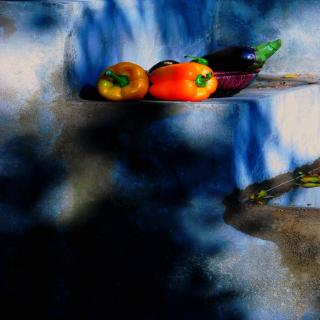Bell pepper: (147, 64, 218, 104), (96, 63, 149, 101)
